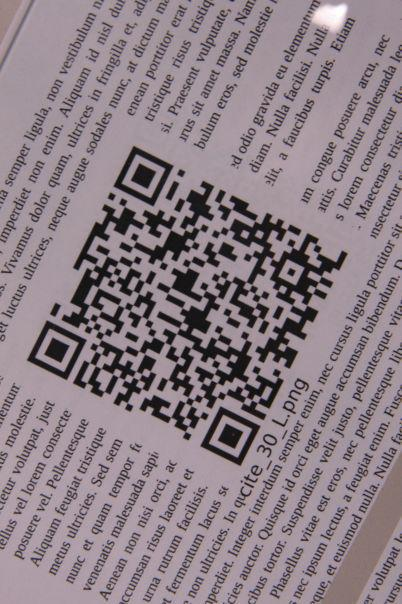Finder pattern: (194, 403, 266, 471), (23, 320, 91, 384), (109, 145, 177, 207)
